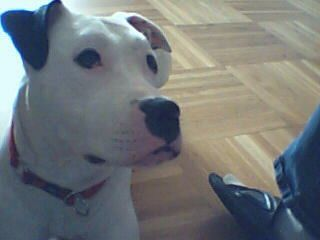dogo_argentino: (0, 0, 183, 237)
